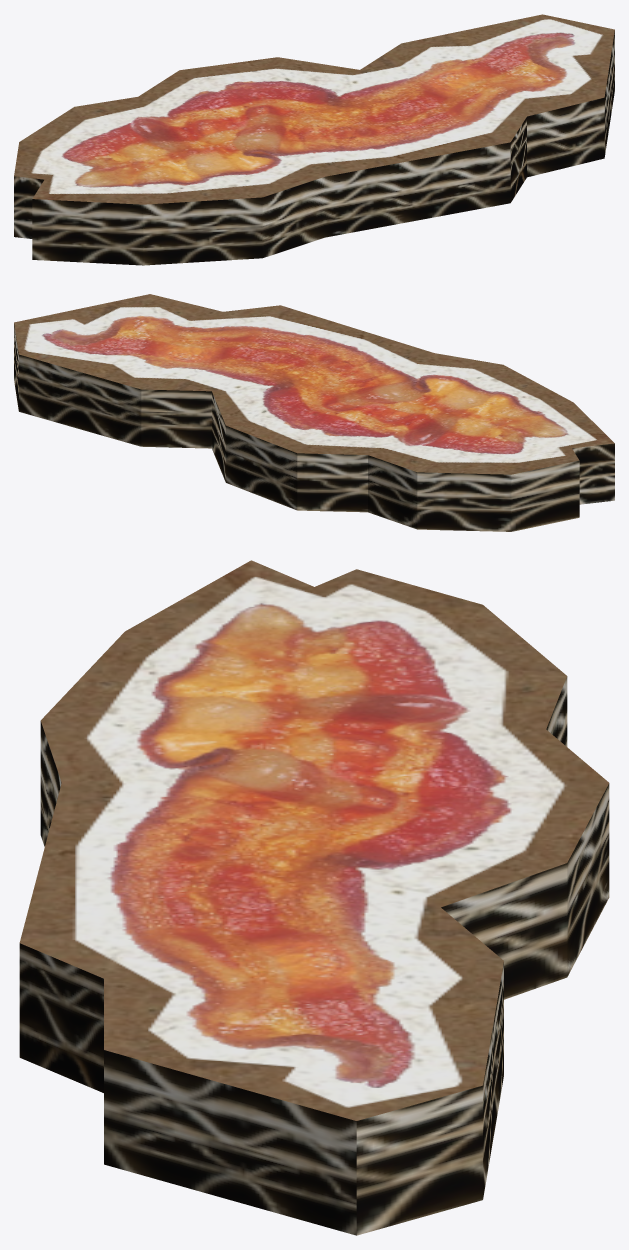
The model's file is Bacon.obj.
3 views of the same model, one above another, from view 1: azimuth 30°, elevation 25°; view 2: azimuth 150°, elevation 25°; view 3: azimuth 270°, elevation 25° (orthographic). The views are drawn at different scales.
Parts seen in each view (by area): view 1: Plane; view 2: Plane; view 3: Plane.
Part boxes in pixels (x1,y1,x2,y2): Plane: (14, 14, 614, 265); Plane: (14, 294, 614, 531); Plane: (19, 560, 609, 1235).
Size of the model in its own units: 3.15 by 0.3 by 1.4.
